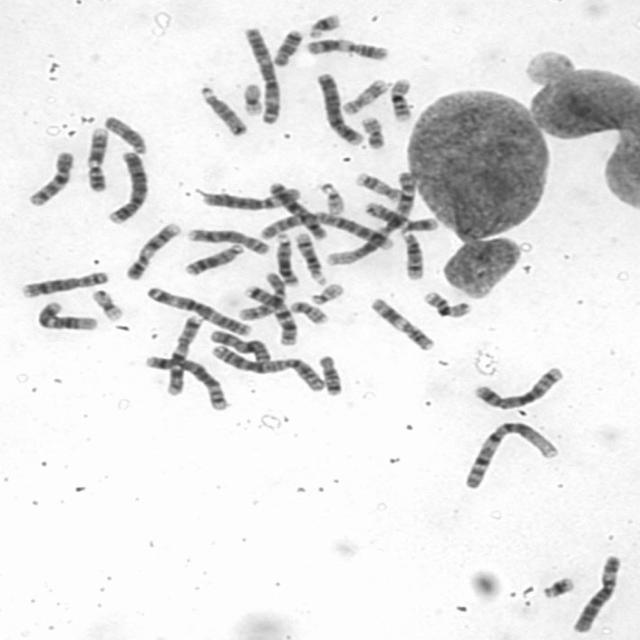A1: (324, 168, 419, 268), (458, 418, 562, 490)
A2: (206, 341, 327, 393), (255, 209, 396, 252)
A3: (141, 282, 254, 337), (239, 24, 283, 126)
B4: (314, 70, 364, 146), (104, 149, 150, 225)
B5: (142, 351, 231, 412), (470, 364, 566, 411)
C10: (23, 148, 76, 207), (235, 270, 286, 322)
C11: (367, 296, 437, 352), (303, 36, 392, 61)
C12: (360, 200, 440, 232), (34, 300, 100, 332)
C6: (568, 551, 624, 633), (198, 182, 302, 211)
C7: (241, 281, 298, 347), (162, 312, 205, 397)
C8: (16, 267, 111, 299), (183, 224, 272, 256)
C9: (122, 219, 182, 282), (84, 126, 110, 193)
D13: (180, 241, 246, 277), (272, 230, 300, 287)
D14: (292, 230, 327, 286), (397, 227, 426, 282)
D15: (196, 84, 248, 136), (100, 113, 148, 156)
E16: (421, 288, 473, 320), (386, 75, 415, 123)
E17: (339, 76, 392, 116), (352, 170, 402, 203)
E18: (269, 27, 305, 68), (316, 351, 344, 397)
F19: (89, 287, 125, 322), (238, 81, 264, 117)
F20: (287, 298, 331, 326), (358, 113, 387, 150)
G21: (305, 12, 342, 40), (538, 573, 576, 600)
G22: (316, 180, 346, 217), (308, 280, 347, 305)
X: (264, 179, 329, 241), (207, 326, 273, 365)
